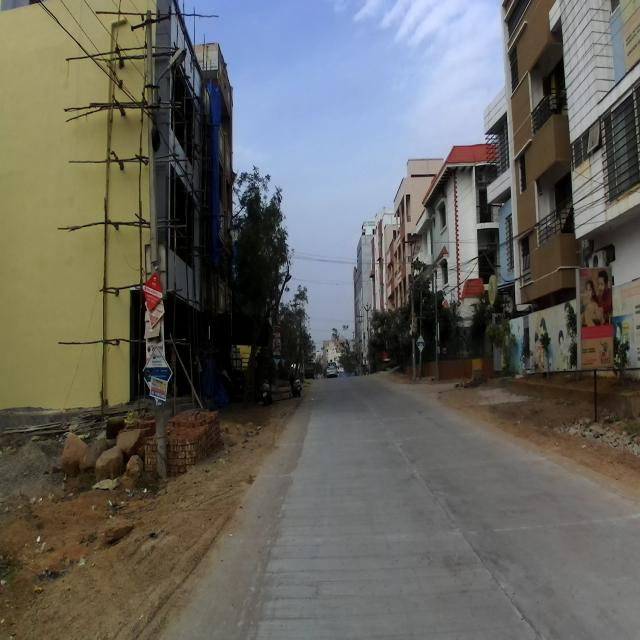electric pole ahead at: (131, 0, 174, 487)
